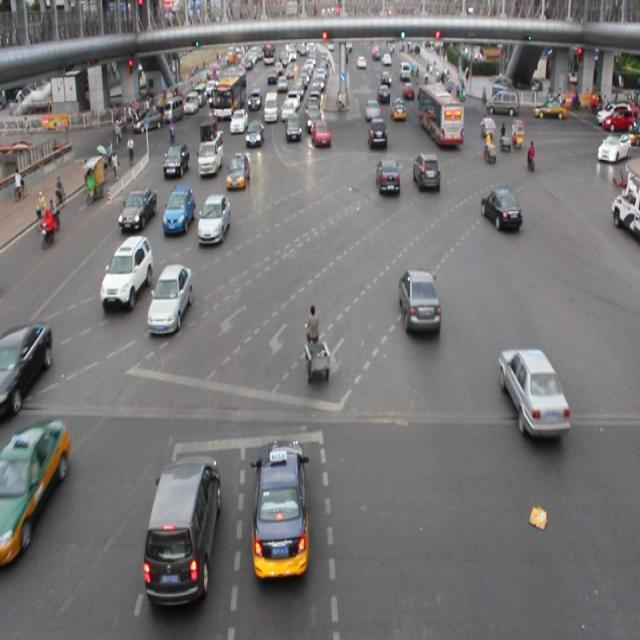car: (1, 421, 64, 564), (249, 438, 308, 580), (498, 348, 568, 431), (1, 318, 53, 414), (100, 233, 153, 313), (150, 264, 191, 334), (400, 268, 440, 335), (480, 188, 520, 232), (198, 192, 229, 244), (119, 189, 157, 231), (164, 184, 194, 234), (412, 153, 440, 192), (376, 156, 402, 197), (162, 141, 188, 180), (227, 152, 250, 191), (367, 118, 386, 151), (311, 115, 331, 146), (245, 118, 264, 150), (228, 105, 246, 133), (286, 113, 302, 143)
truck: (147, 456, 217, 601), (197, 122, 222, 178)
van: (417, 84, 462, 148)
